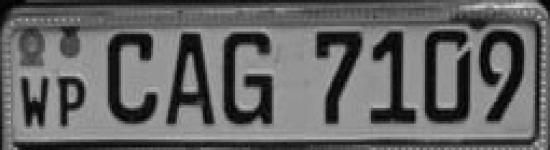0: (426, 21, 478, 130)
1: (370, 26, 424, 133)
7: (305, 21, 365, 132)
9: (480, 23, 530, 130)
A: (166, 22, 218, 129)
C: (99, 25, 162, 132)
G: (218, 24, 283, 132)
P: (53, 70, 93, 135)
W: (15, 72, 54, 132)
